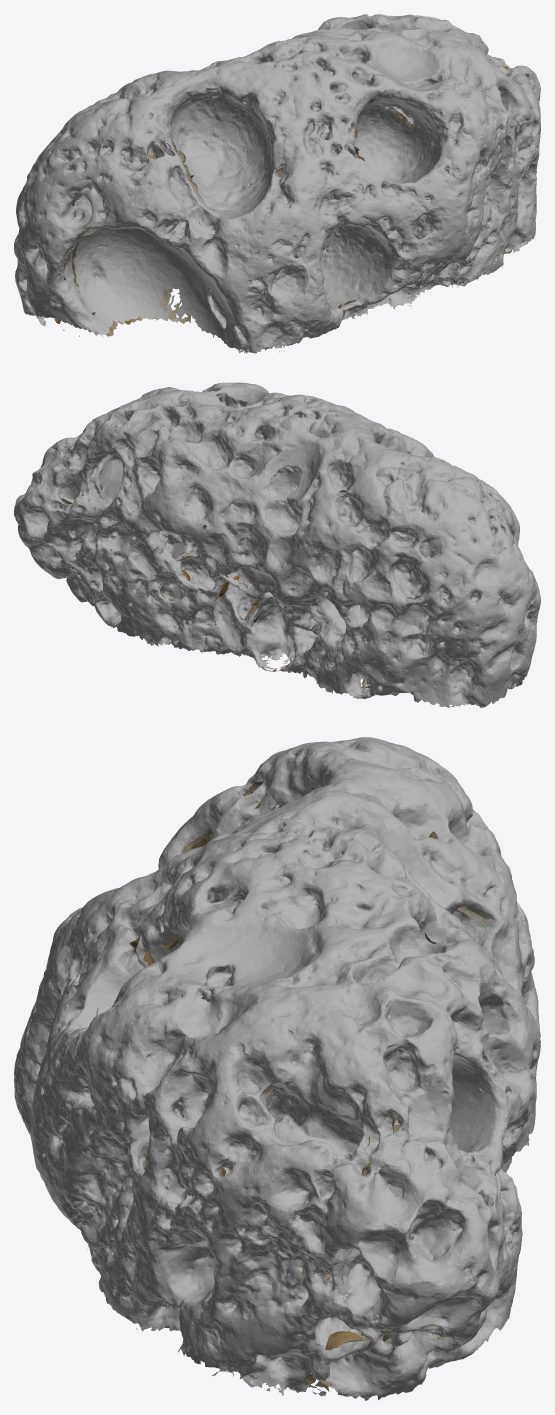
3 renders of one model, top to bottom at view 1: azimuth 30°, elevation 25°; view 2: azimuth 150°, elevation 25°; view 3: azimuth 270°, elevation 25°, orthographic. The views are drawn at different scales.
Parts seen in each view (by area): view 1: stone07.001, stone07; view 2: stone07.001, stone07; view 3: stone07.001, stone07.
Part boxes in pixels (left/top/right/bottom): stone07.001: left=14, top=14, right=540, bottom=353; stone07: left=54, top=29, right=533, bottom=353; stone07.001: left=14, top=382, right=540, bottom=707; stone07: left=59, top=397, right=438, bottom=703; stone07.001: left=14, top=737, right=540, bottom=1400; stone07: left=89, top=781, right=486, bottom=1391.
Bounding box in the file's own units: 31.71 × 13.68 × 16.47.
Materials: 2 (1 with a texture image).
